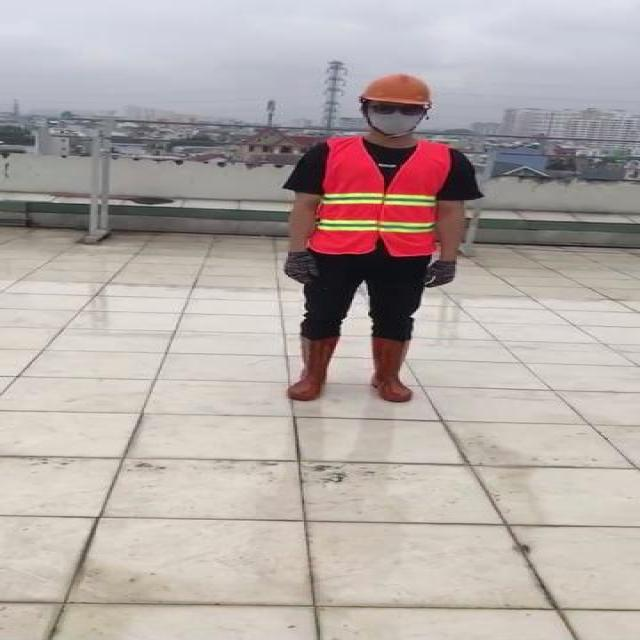boots: (283, 334, 343, 403), (368, 336, 416, 403)
face_mask: (364, 100, 429, 136)
glasses: (364, 102, 431, 118)
hand_glove: (281, 255, 318, 283), (427, 258, 457, 289)
head_helmet: (361, 72, 437, 106)
person: (274, 70, 482, 413)
vest: (310, 136, 454, 253)
